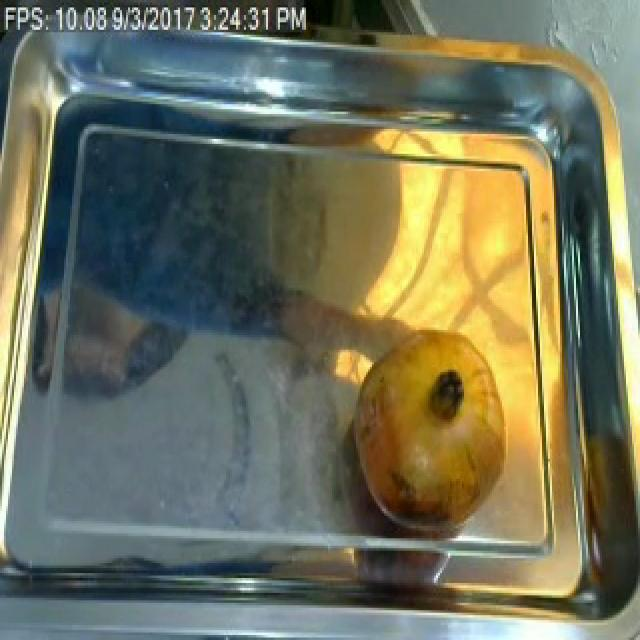fruit: (344, 320, 518, 546)
